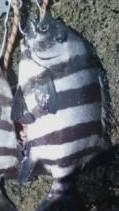fish: (11, 13, 111, 210)
